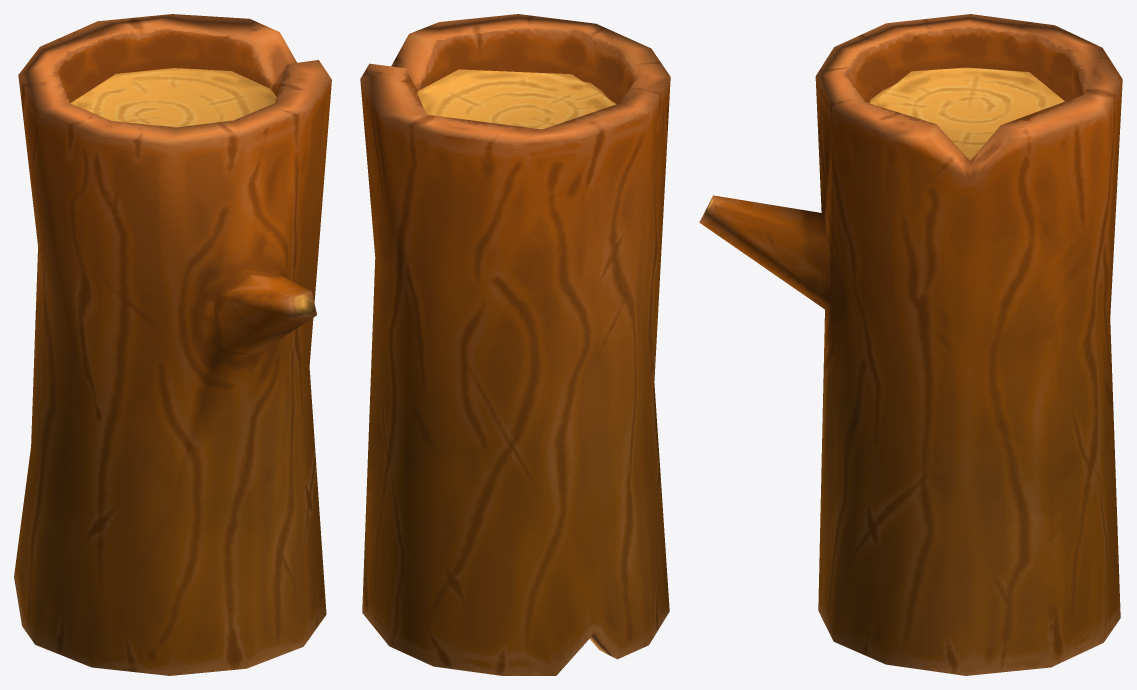
Rendered from log_LOD3.fbx.
3 views of the same model, side by side, from view 1: azimuth 30°, elevation 25°; view 2: azimuth 150°, elevation 25°; view 3: azimuth 270°, elevation 25° (orthographic).
Parts seen in each view (by area): view 1: log_low; view 2: log_low; view 3: log_low.
Part boxes in pixels (x1,y1,x2,y2): log_low: (14, 14, 331, 675); log_low: (360, 14, 670, 675); log_low: (699, 14, 1122, 675).
Bounding box in the file's own units: 196 × 376 × 267.
